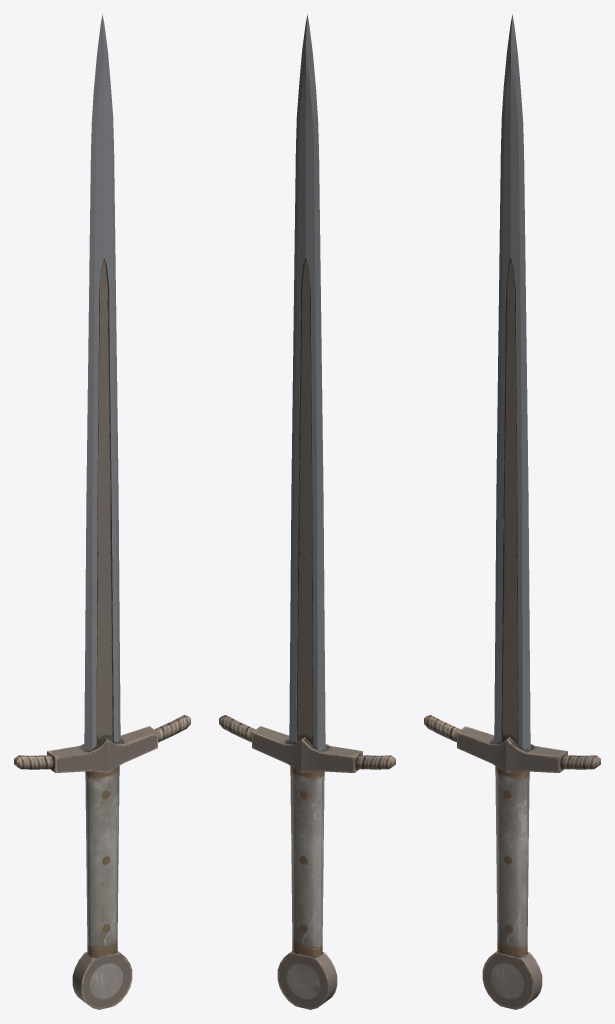
The model's file is short-sword.glb.
3 views of the same model, side by side, from view 1: azimuth 30°, elevation 25°; view 2: azimuth 150°, elevation 25°; view 3: azimuth 330°, elevation 25° (orthographic).
Parts seen in each view (by area): view 1: Short Sword; view 2: Short Sword; view 3: Short Sword.
Boxes of the visible parts, box(x1,y1,x2,y2) form: Short Sword: box(14, 14, 190, 1009); Short Sword: box(219, 14, 395, 1009); Short Sword: box(424, 14, 600, 1009).
Bounding box in the file's own units: 0.1837 × 1 × 0.0221.
Materials: 1 (1 with a texture image).
